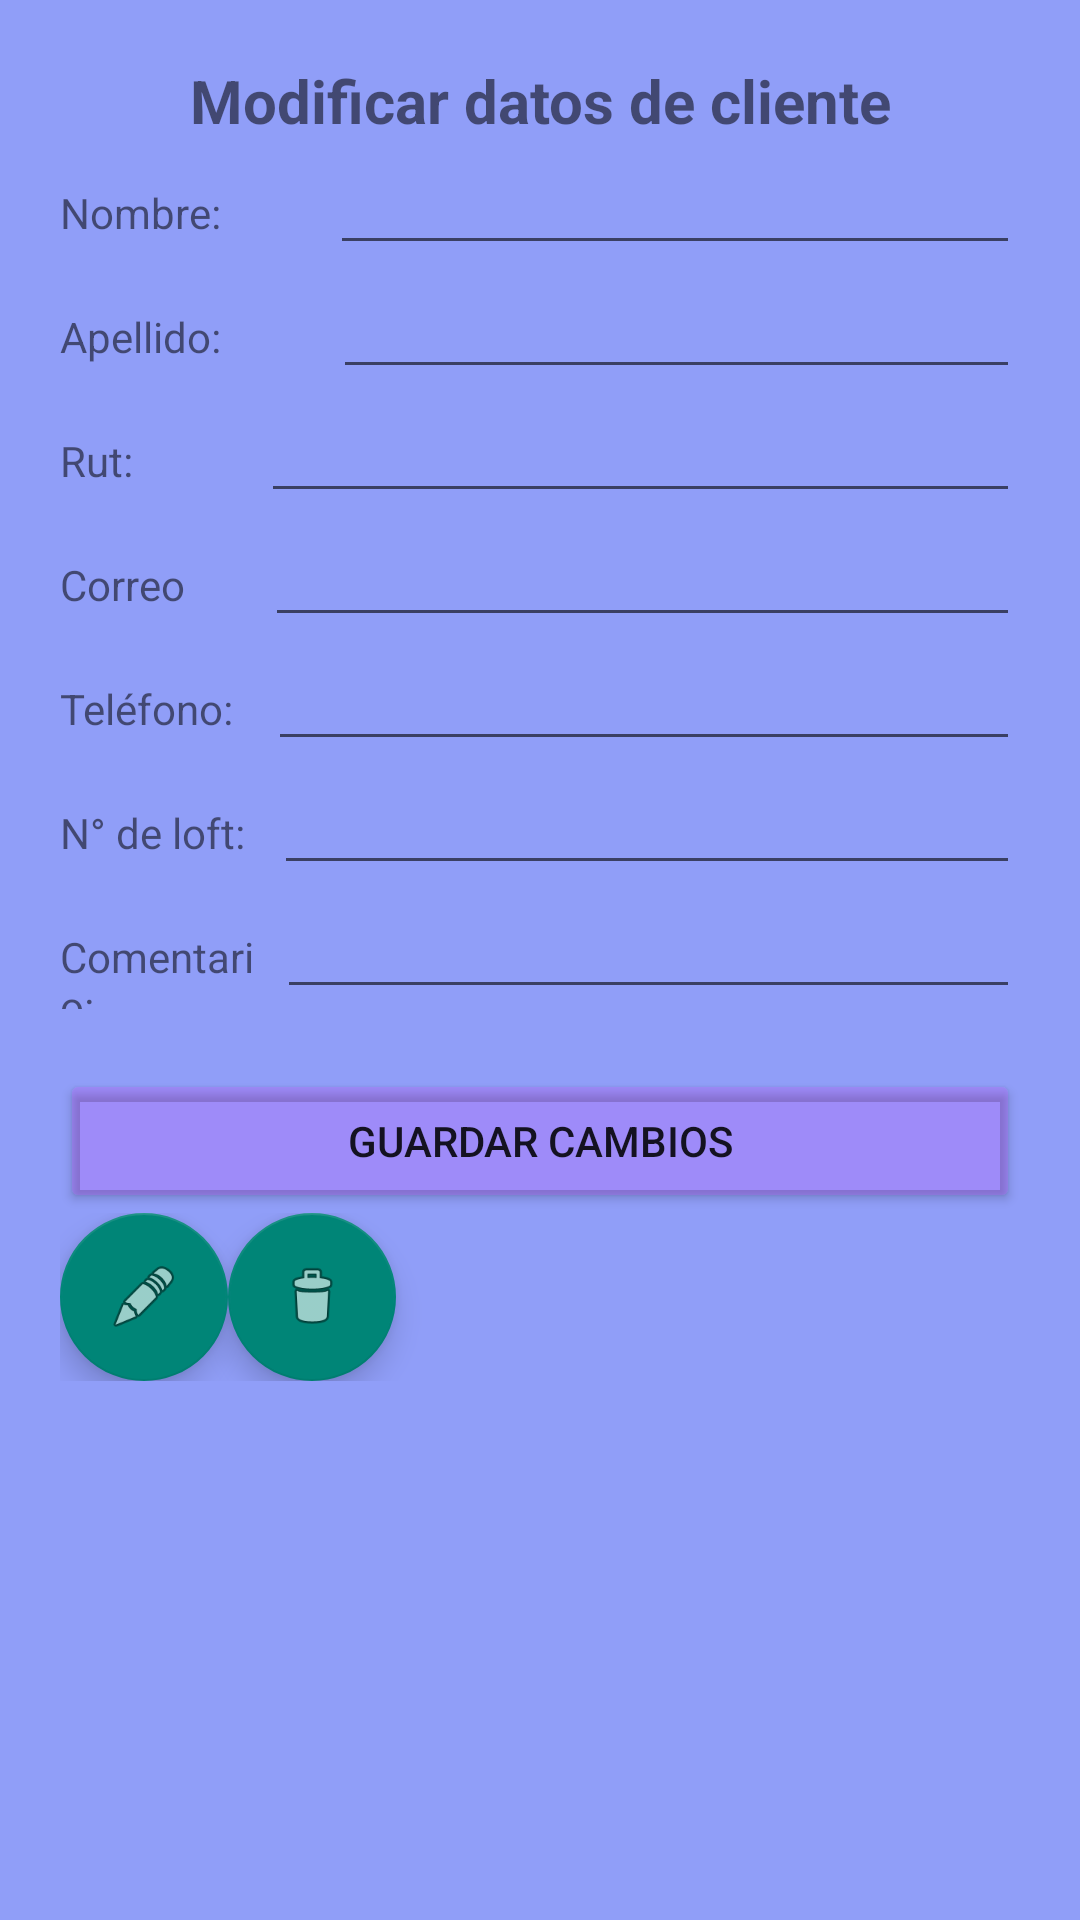

Icons on this 1080*1920 Android screen, each with the point to tap as (x,y):
delete: (312,1297)
edit: (144,1297)
